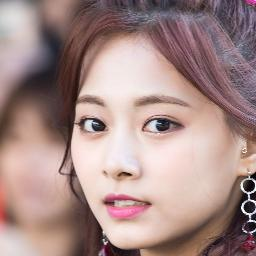face: (72, 50, 228, 250)
